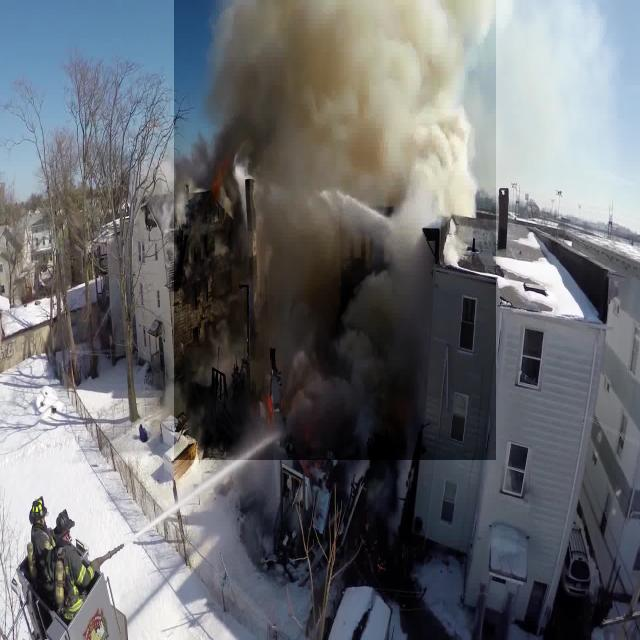Smoke: (174, 0, 496, 460)
